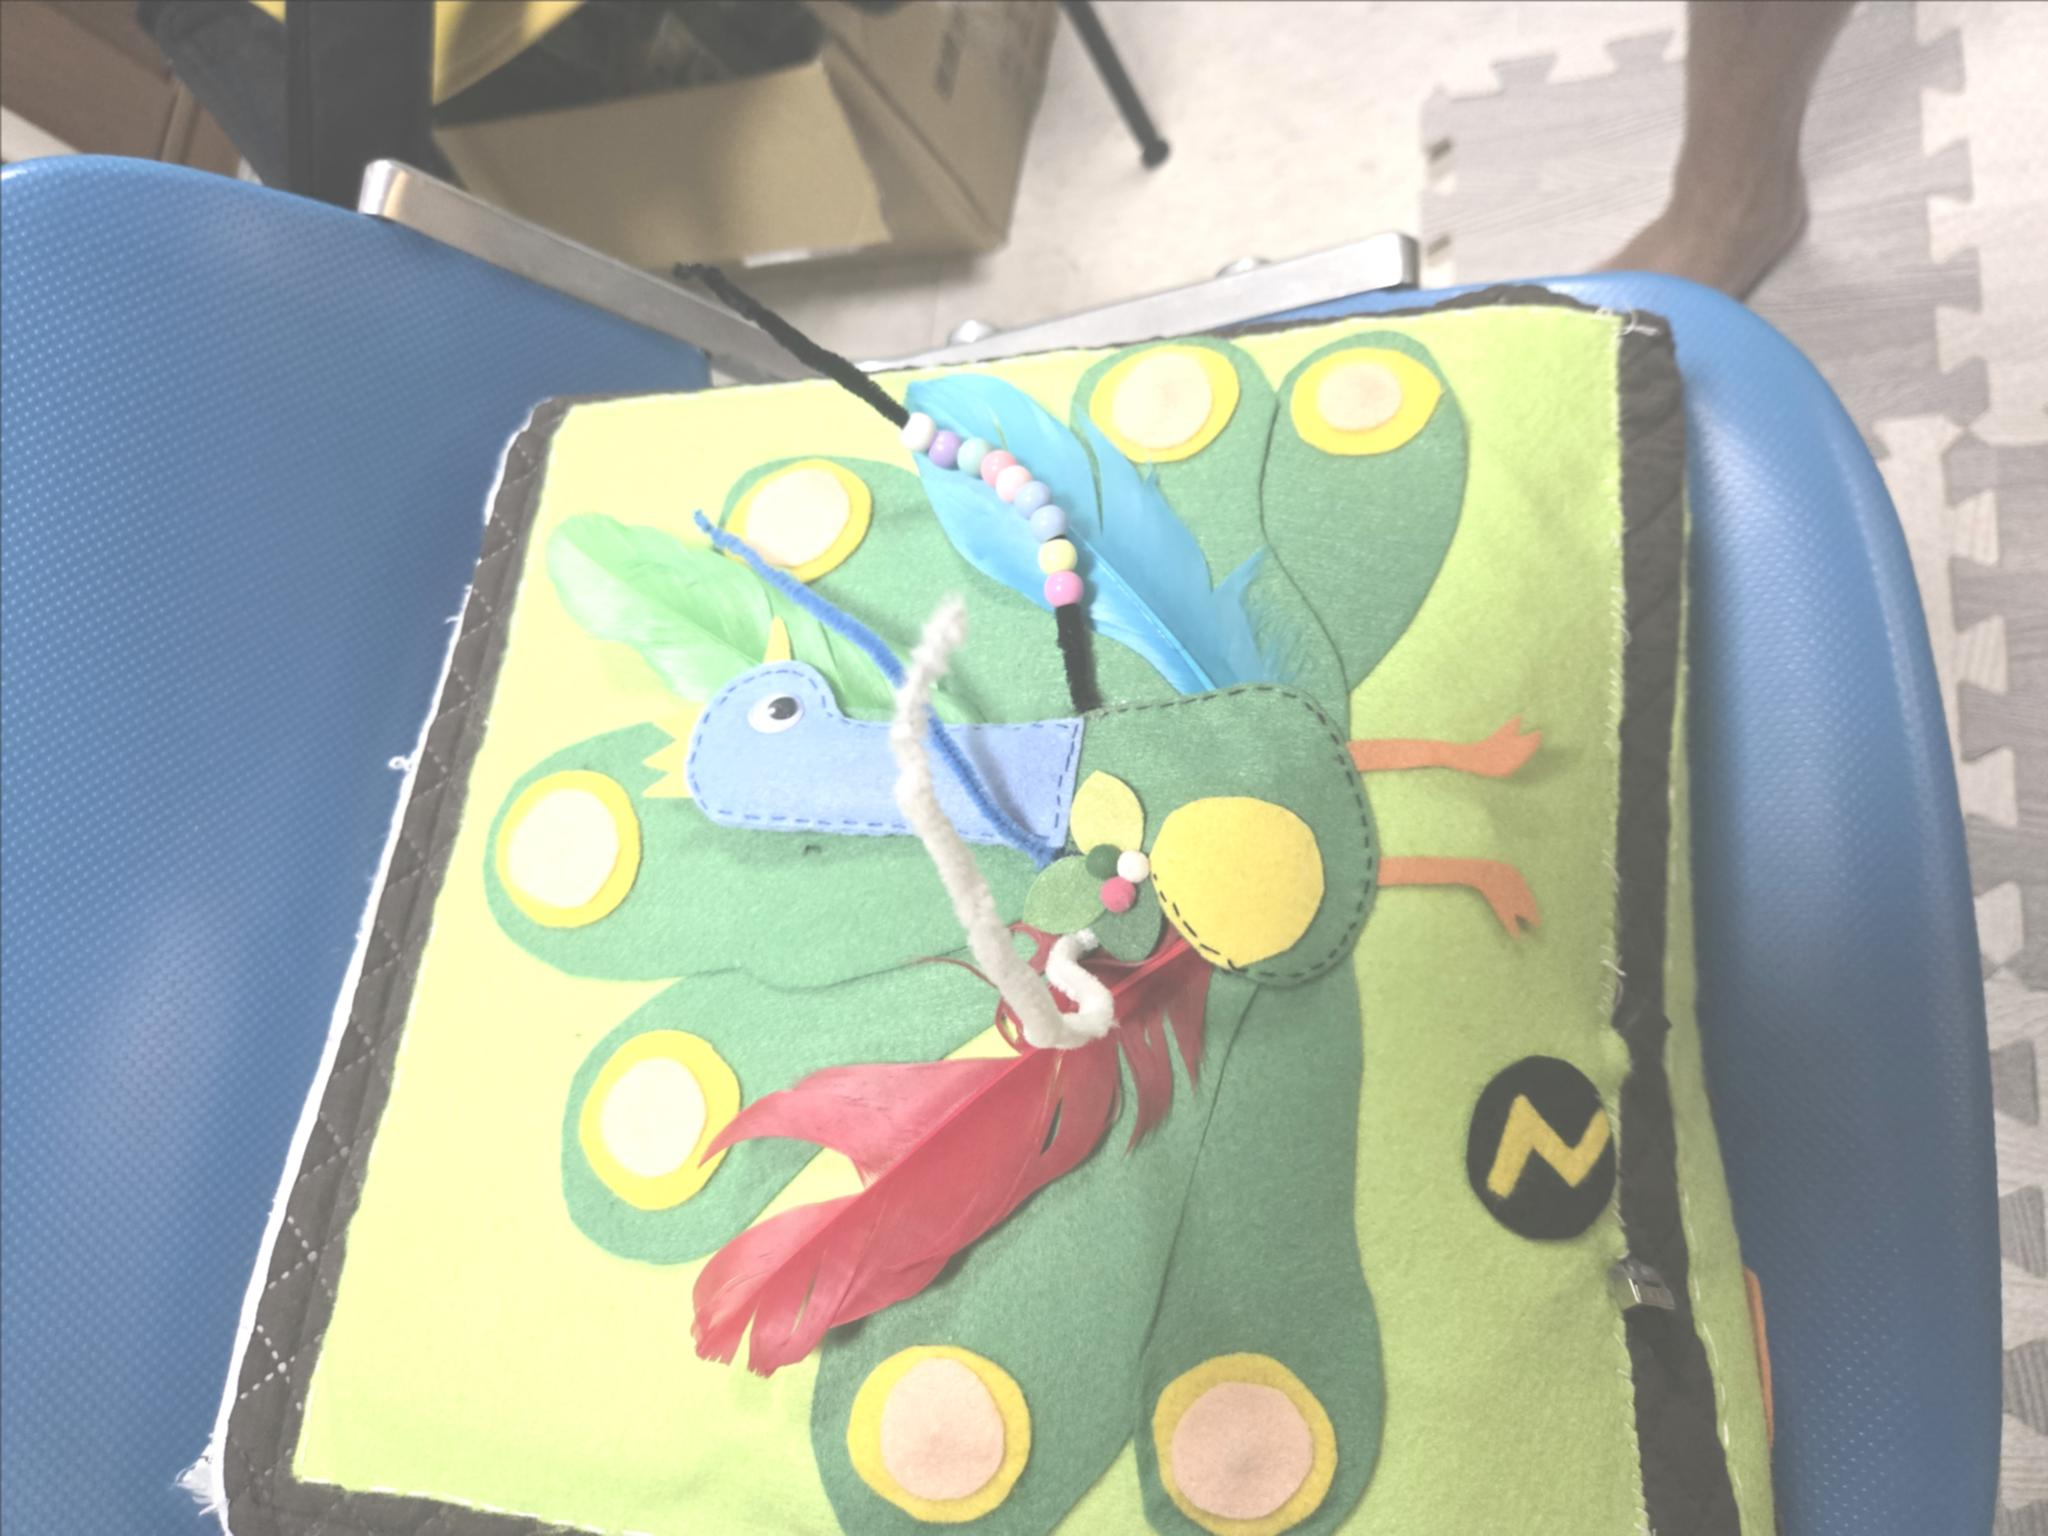bead: (1040, 571, 1090, 615), (984, 463, 1035, 499), (914, 428, 956, 471), (1005, 468, 1039, 518), (976, 437, 1003, 499), (1024, 503, 1059, 542), (1029, 545, 1074, 574), (910, 402, 932, 458), (956, 432, 977, 486)
